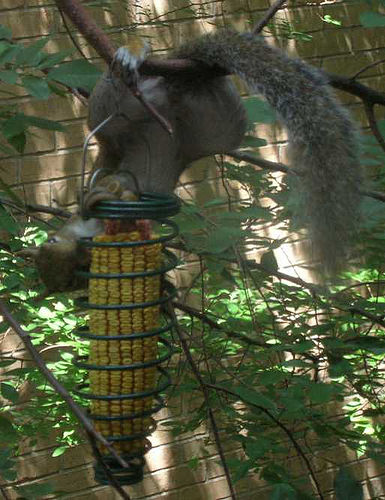corn: (90, 218, 155, 465)
